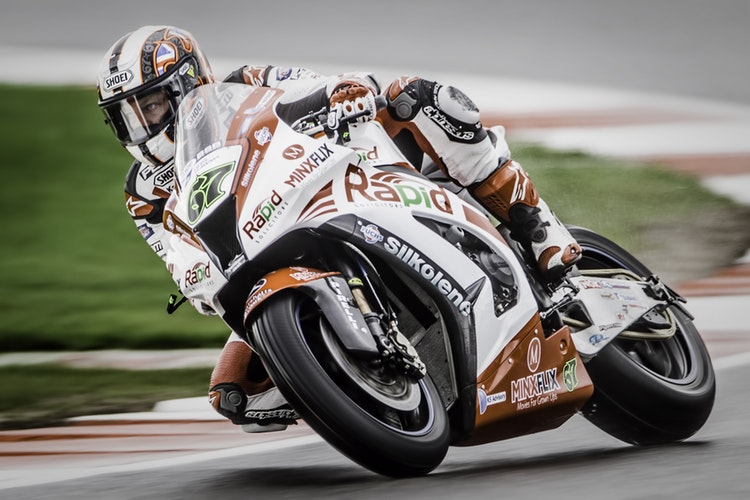helmet: (100, 32, 210, 174)
